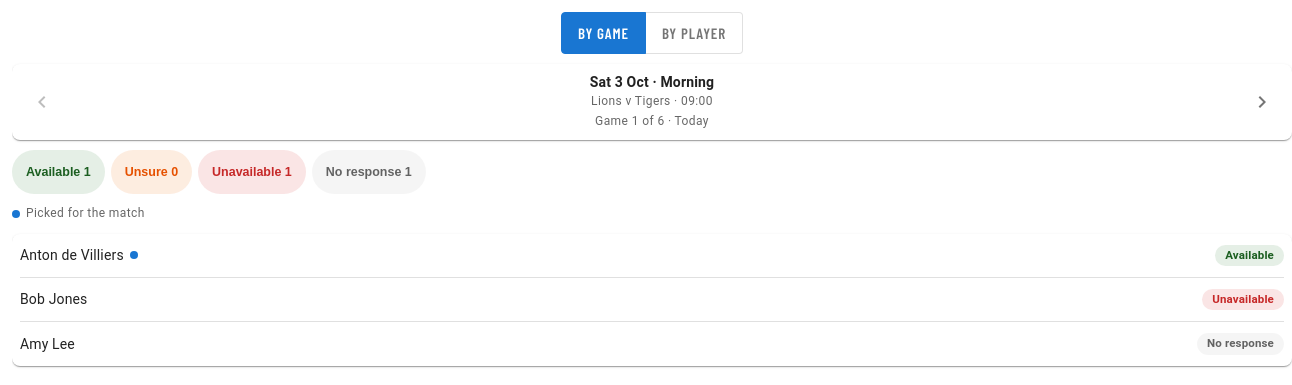
PlayersPhoneLists › switch and By game › shows the four counts on the chips; tapping one filters and tapping it again clears
This screenshot has width=1292, height=385.
Expected: the button "Unsure 0" is shown, top-left (111, 150), bottom-right (192, 194)
Expected: the button "No response 1" is shown, top-left (312, 150), bottom-right (426, 194)
Click the button "Unavailable 1": coordinates (252, 172) top-left (198, 150), bottom-right (306, 194)
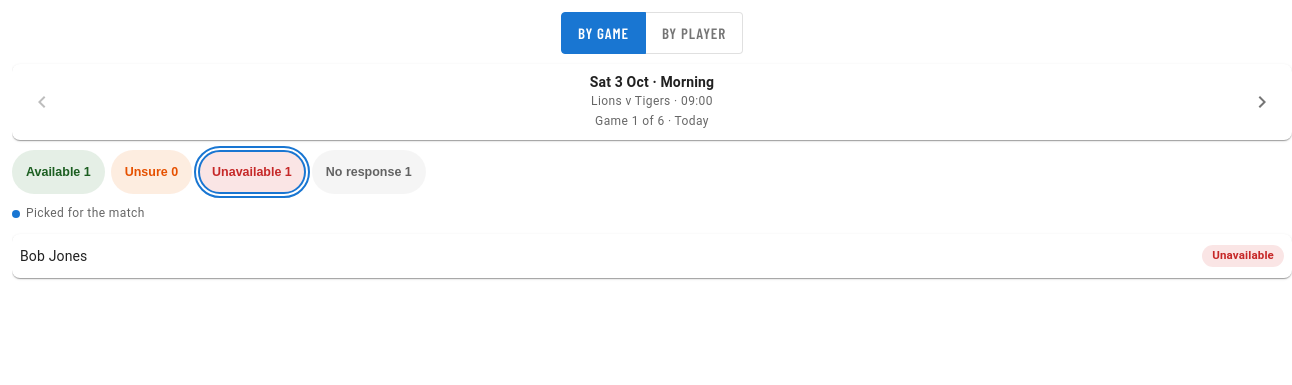
Expected: the button "Unavailable 1" is pressed
Click the button "Unavailable 1": coordinates (252, 172) top-left (198, 150), bottom-right (306, 194)
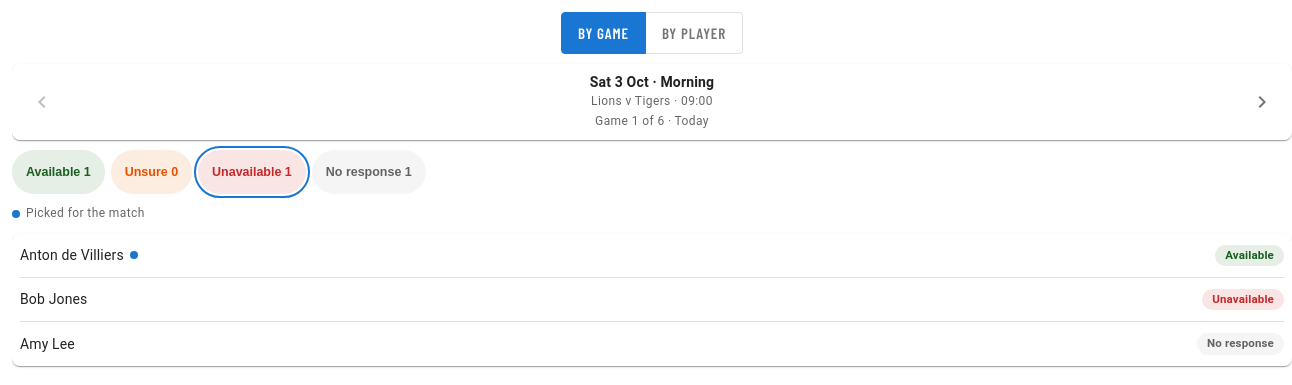
Expected: the number of list items is 3, top-left (20, 234), bottom-right (1284, 278); top-left (20, 278), bottom-right (1284, 322); top-left (20, 333), bottom-right (1284, 355)
